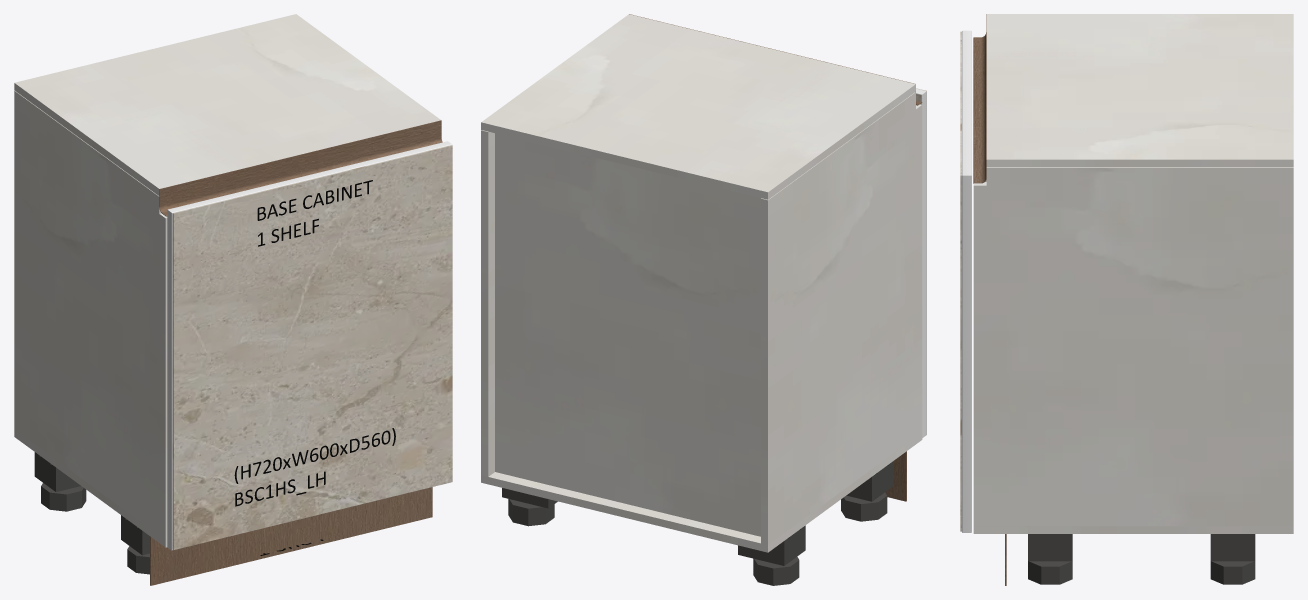
The picture shows the model from 3 angles, left to right: view 1: azimuth 30°, elevation 25°; view 2: azimuth 150°, elevation 25°; view 3: azimuth 270°, elevation 25°; orthographic projection. The views are drawn at different scales.
Size of what is drawn, in the model's own units: 0.6 by 0.82 by 0.5899.
Materials: 6 (3 with a texture image).
